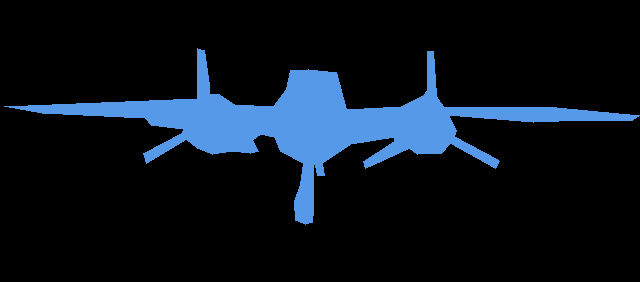Airplane: (4, 48, 640, 224)
